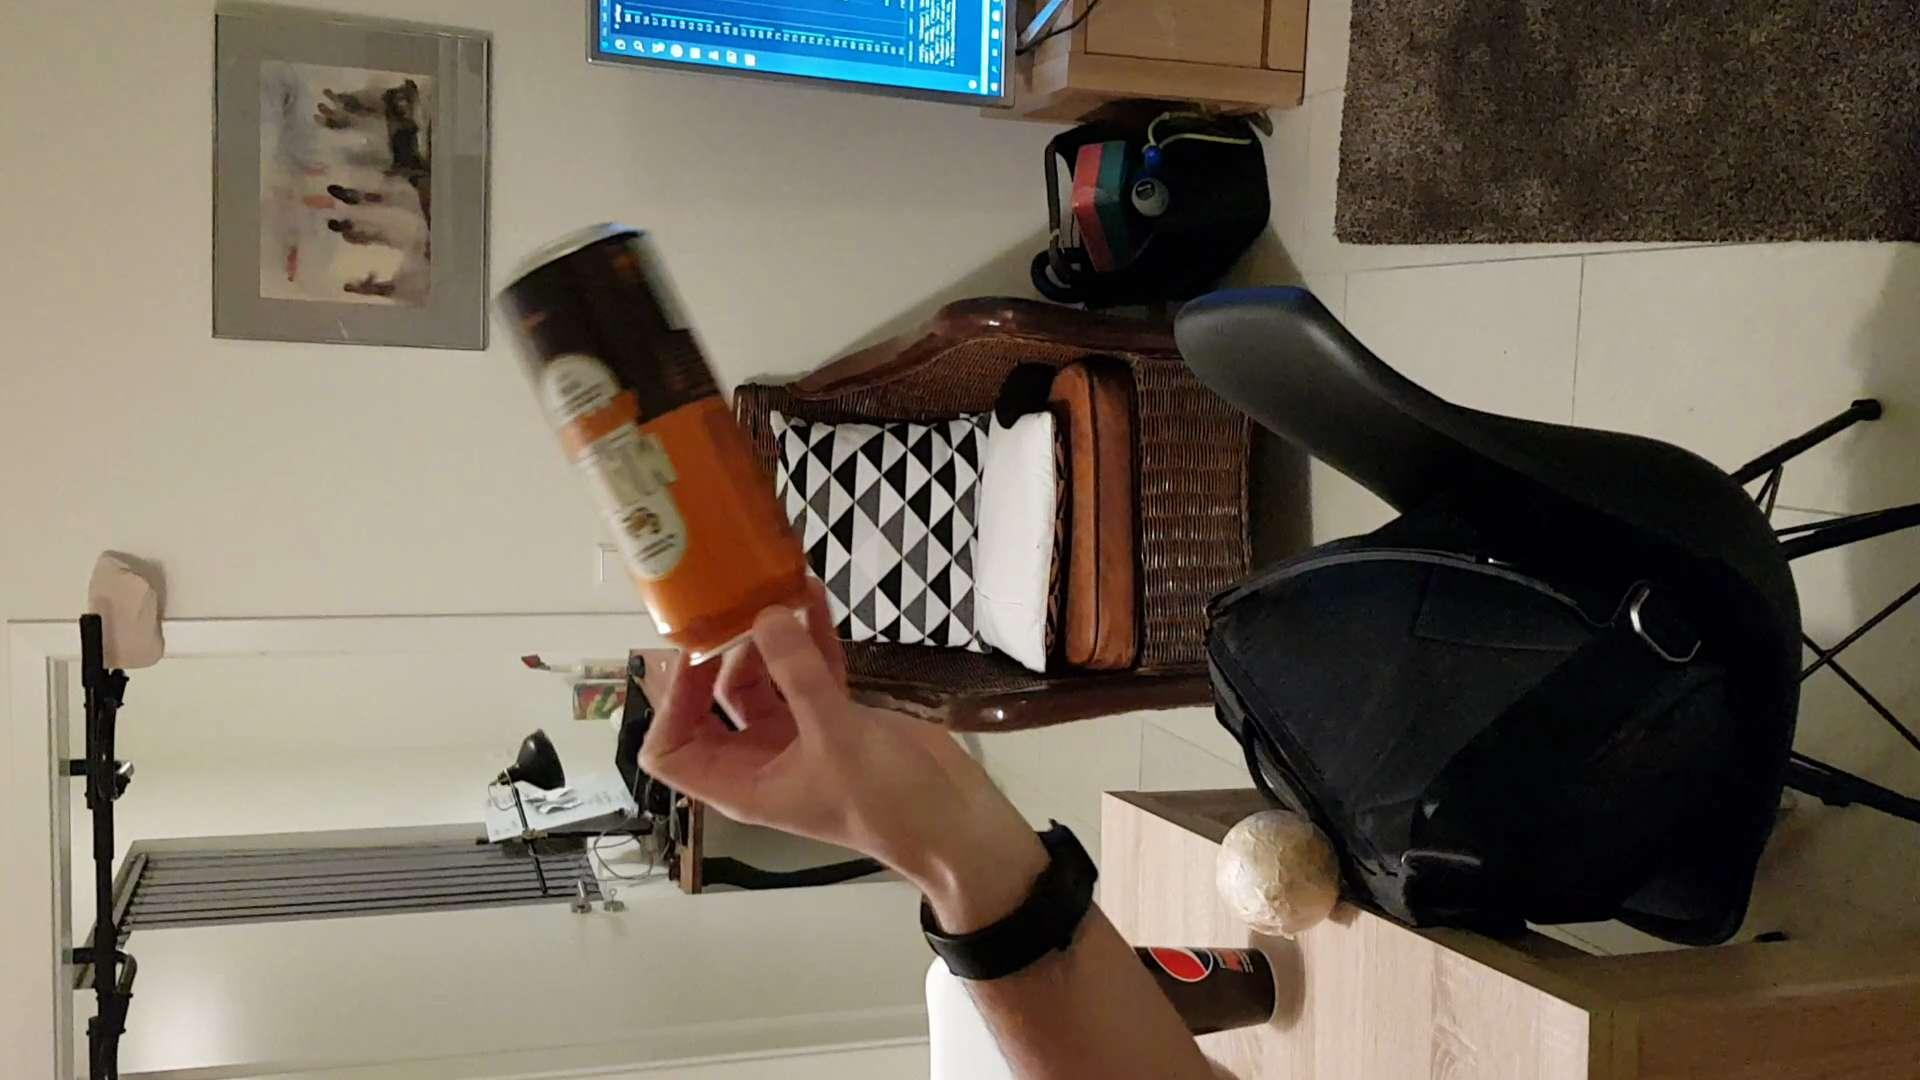Can: (492, 210, 811, 651)
